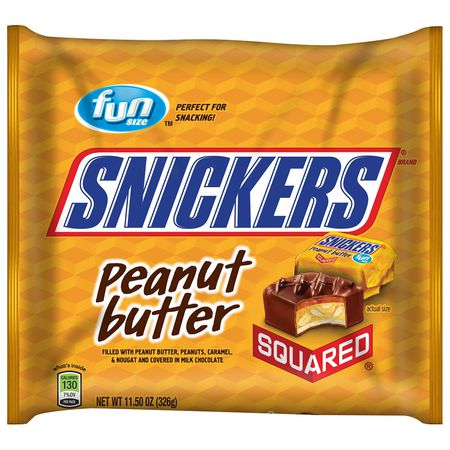snickers: (62, 154, 385, 228)
